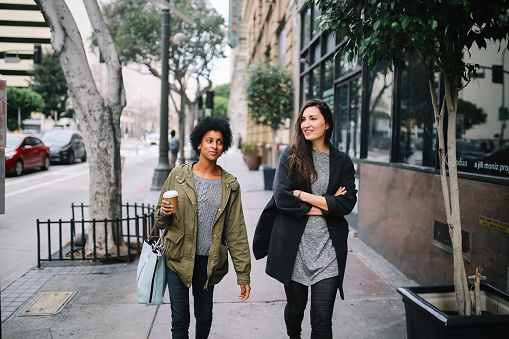person: (252, 94, 364, 339), (151, 113, 255, 339)
